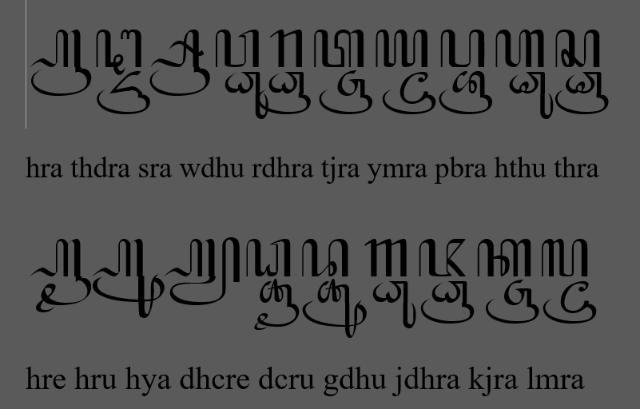_br: (438, 70, 494, 116)
_cre: (253, 279, 300, 331)
_cru: (302, 278, 368, 340)
_dhr: (258, 70, 312, 116), (420, 280, 474, 324)
_dhu: (225, 70, 269, 120), (372, 280, 416, 330)
_dr: (96, 70, 150, 116)
_hr: (30, 27, 92, 97)
_hre: (28, 237, 92, 313)
_hru: (94, 238, 164, 318)
_hy: (164, 236, 242, 306)
_jr: (485, 278, 541, 326), (318, 69, 374, 116)
_mr: (542, 280, 598, 326), (382, 71, 436, 115)
_sr: (149, 28, 211, 98)
_thr: (555, 70, 609, 116)
_thu: (508, 70, 554, 120)
d: (301, 238, 349, 278)
dh: (245, 238, 292, 278)
g: (364, 238, 408, 278)
h: (494, 28, 546, 70)
j: (418, 238, 468, 278)
k: (476, 239, 532, 278)
l: (540, 238, 590, 278)
p: (439, 28, 486, 68)
r: (270, 28, 304, 68)
s: (554, 28, 602, 70)
t: (312, 28, 366, 70)
th: (95, 28, 143, 76)
w: (214, 28, 260, 68)
y: (374, 29, 430, 69)
